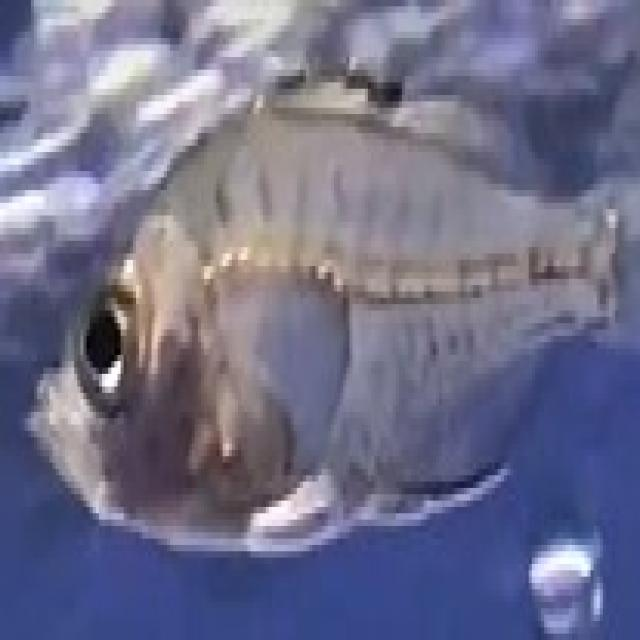Glass-Perchlet: (25, 40, 640, 604)
